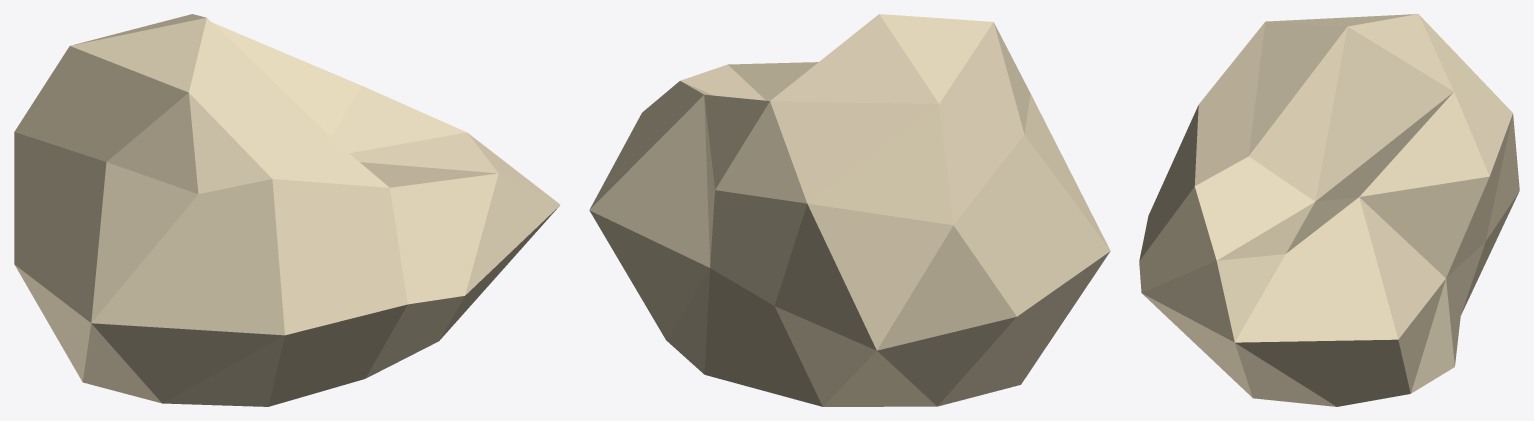
Rendered from Rock_03.fbx.
3 views of the same model, side by side, from view 1: azimuth 30°, elevation 25°; view 2: azimuth 150°, elevation 25°; view 3: azimuth 270°, elevation 25° (orthographic). The views are drawn at different scales.
Visible parts, largest first — view 1: Rock_03; view 2: Rock_03; view 3: Rock_03.
Boxes of the visible parts, x1,y1,x2,y2 form: Rock_03: [14, 14, 560, 406]; Rock_03: [589, 14, 1110, 406]; Rock_03: [1139, 14, 1519, 406].
Size of the model in its own units: 209 by 142 by 167.
